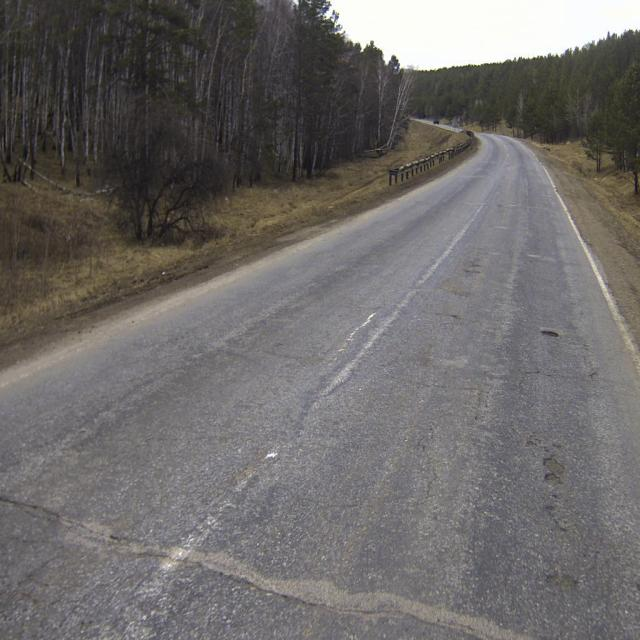road: (0, 132, 640, 639)
